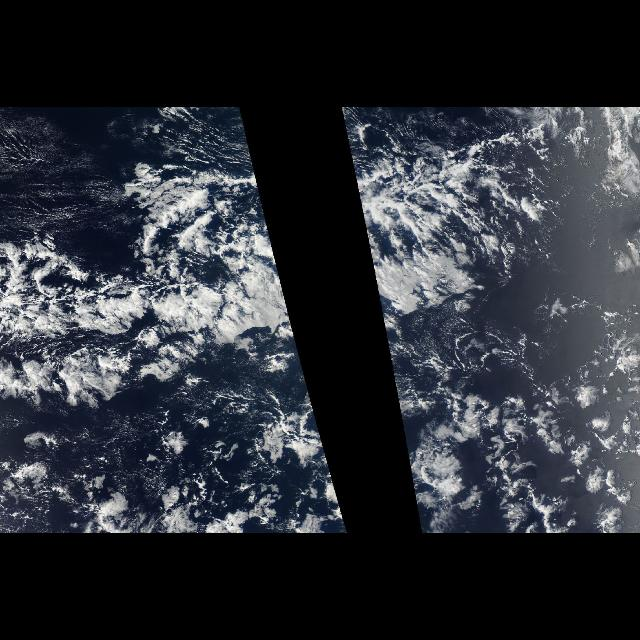Fish: (2, 110, 310, 394), (342, 110, 572, 394)
